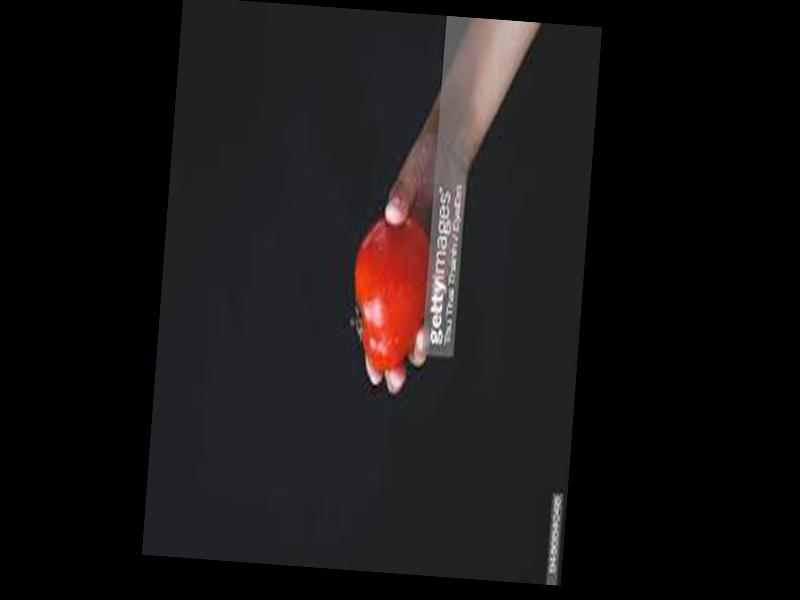Tomato: (347, 217, 434, 378)
